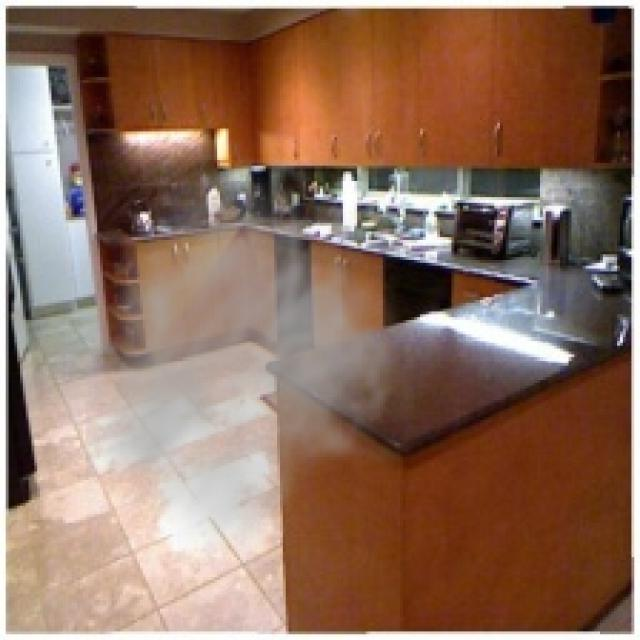smoke: (86, 160, 431, 566)
